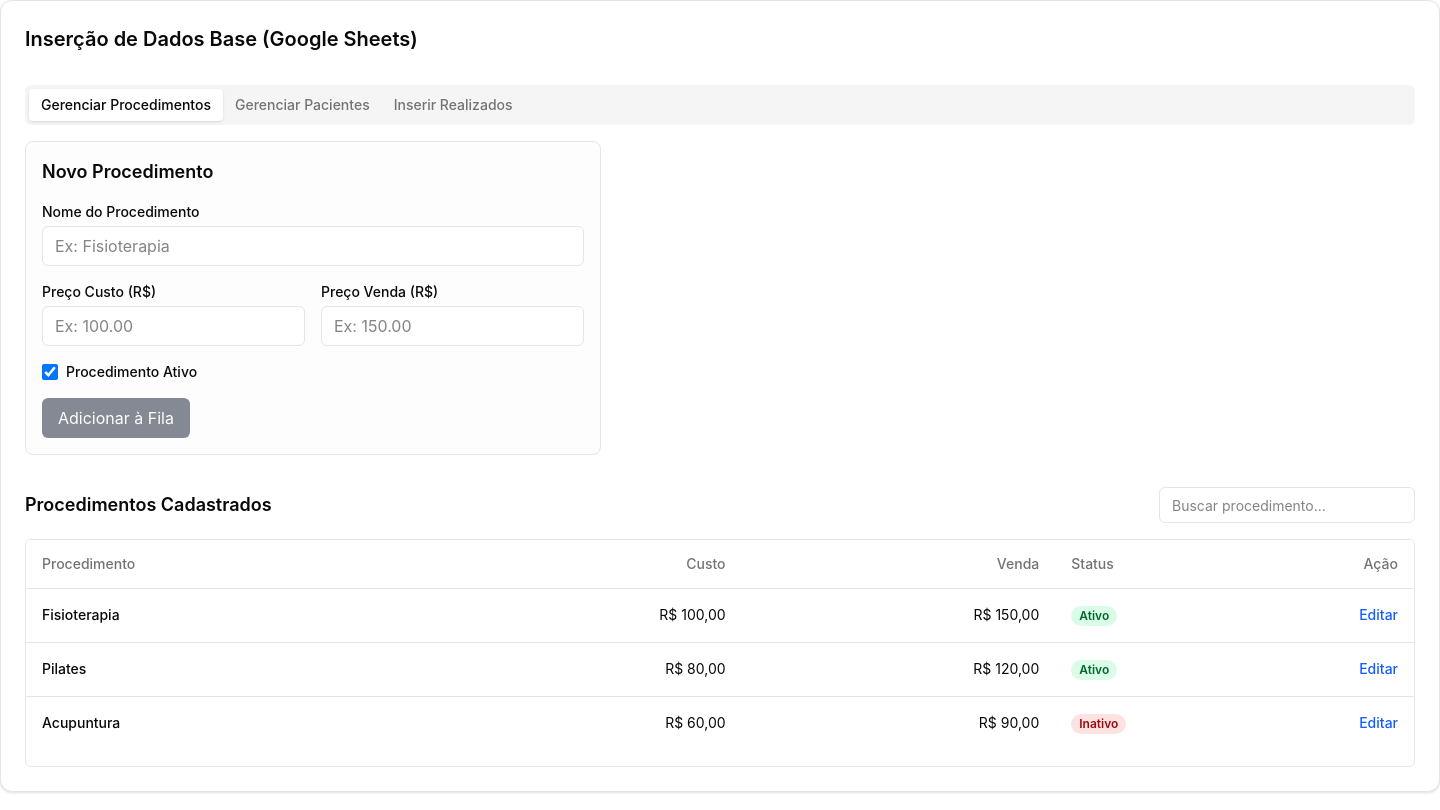
Test case: FormProcedimento - criacao de novo procedimento › mostra erro quando a API retorna 500
Type "Teste Erro" into the field with placeholder "Ex: Fisioterapia" at (313, 246), box [42,226,584,266]
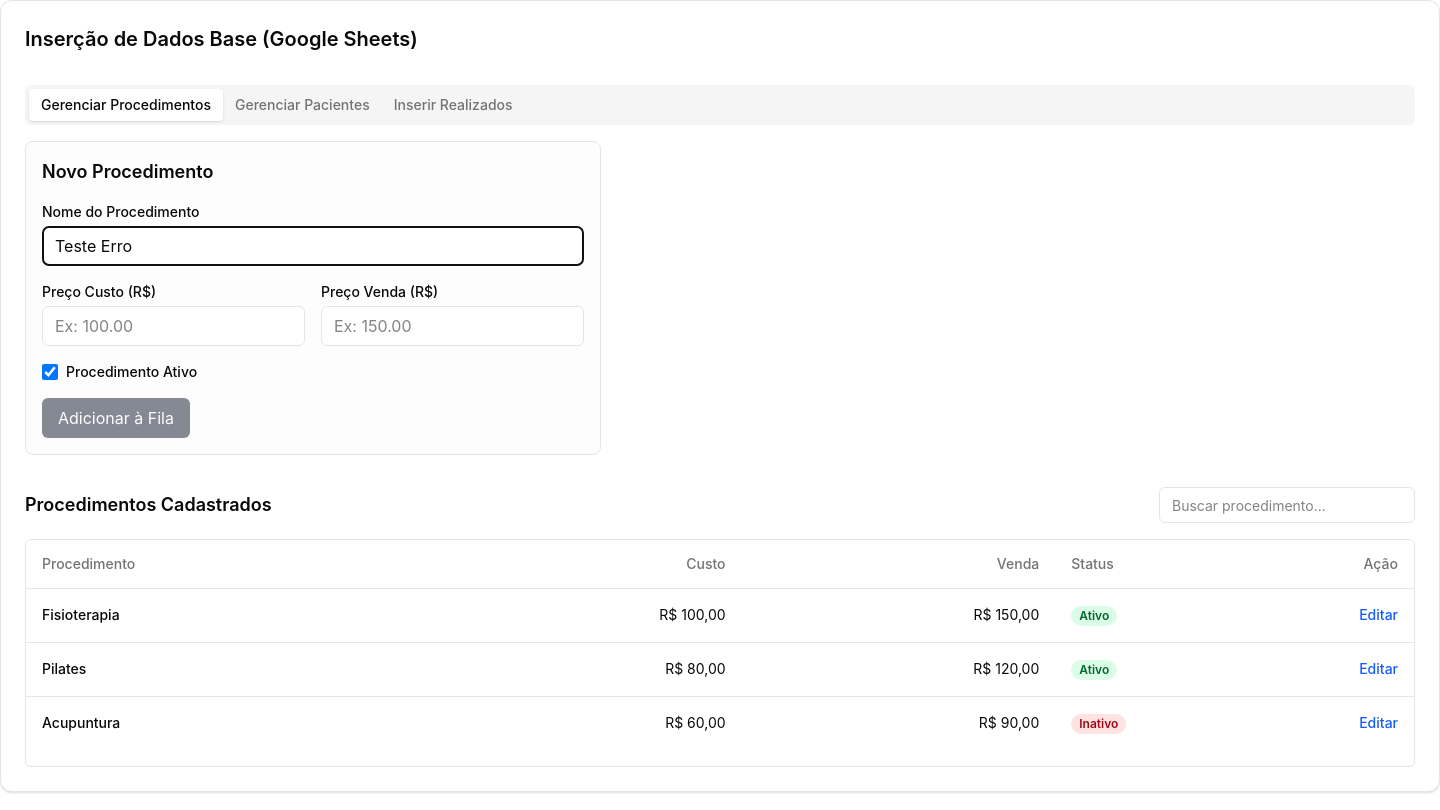
Type "10" into the number field with placeholder "Ex: 100.00" at (174, 326), box [42,306,305,346]
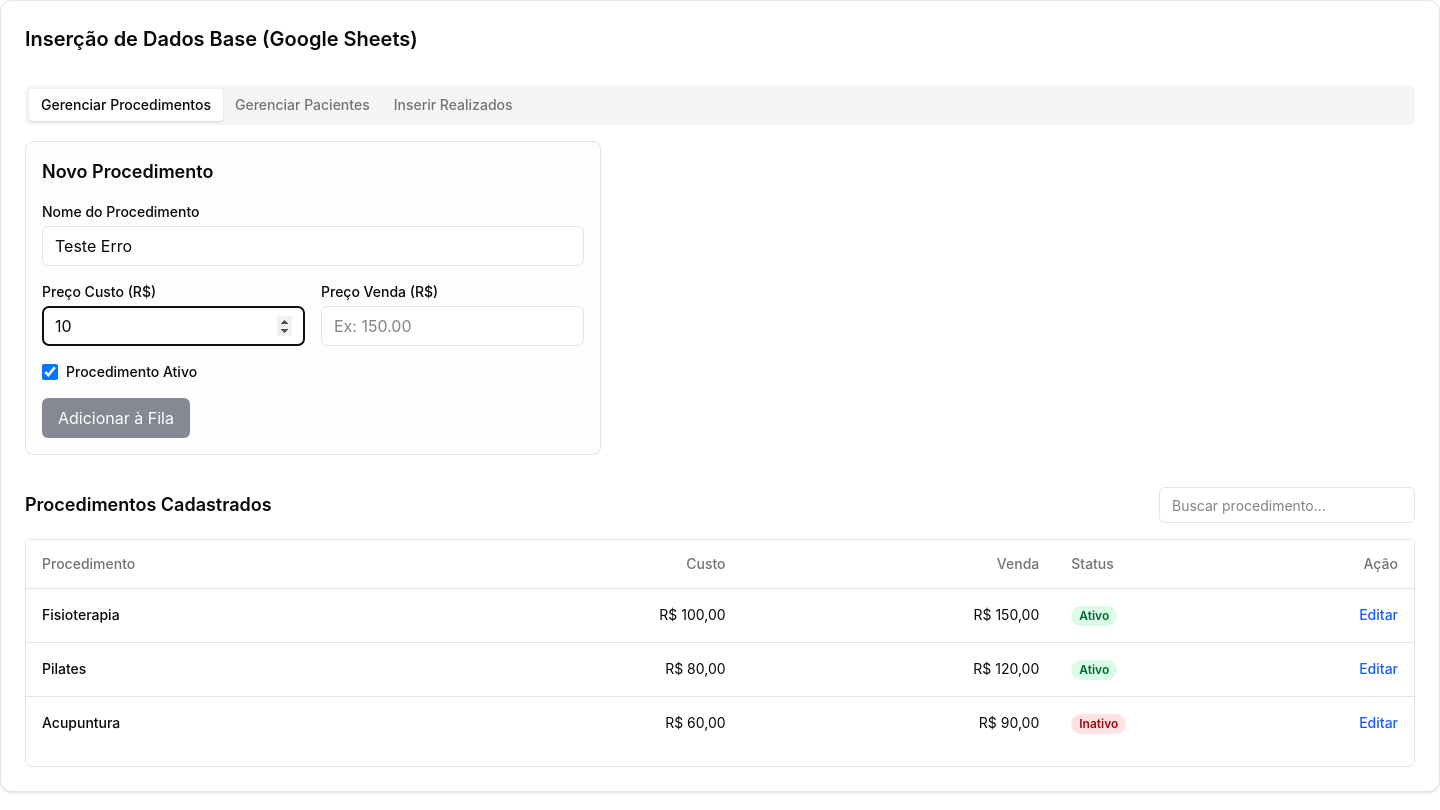
Type "20" into the number field with placeholder "Ex: 150.00" at (452, 326), box [321,306,584,346]
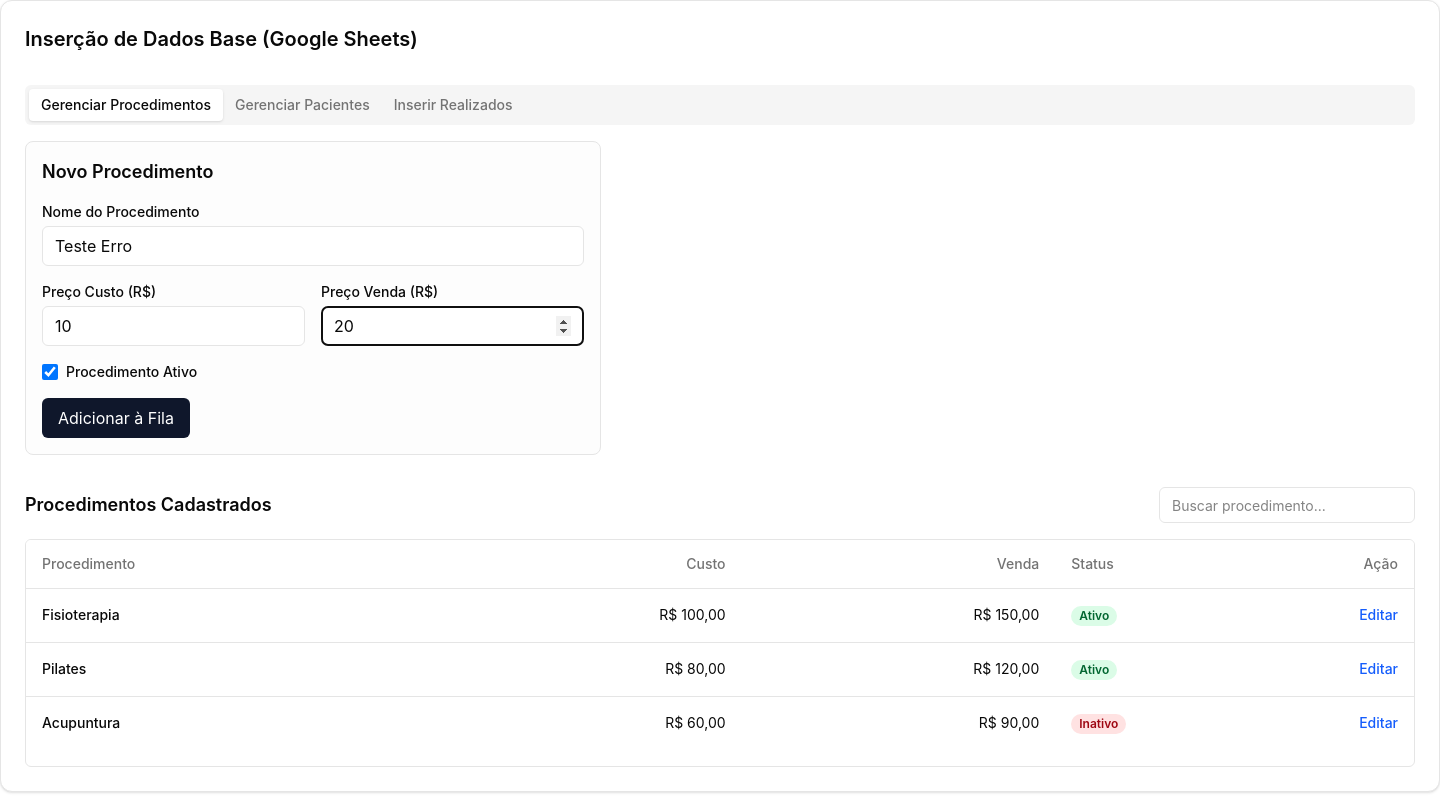
Click the button "Adicionar à Fila" at (116, 418), box [42,398,190,438]
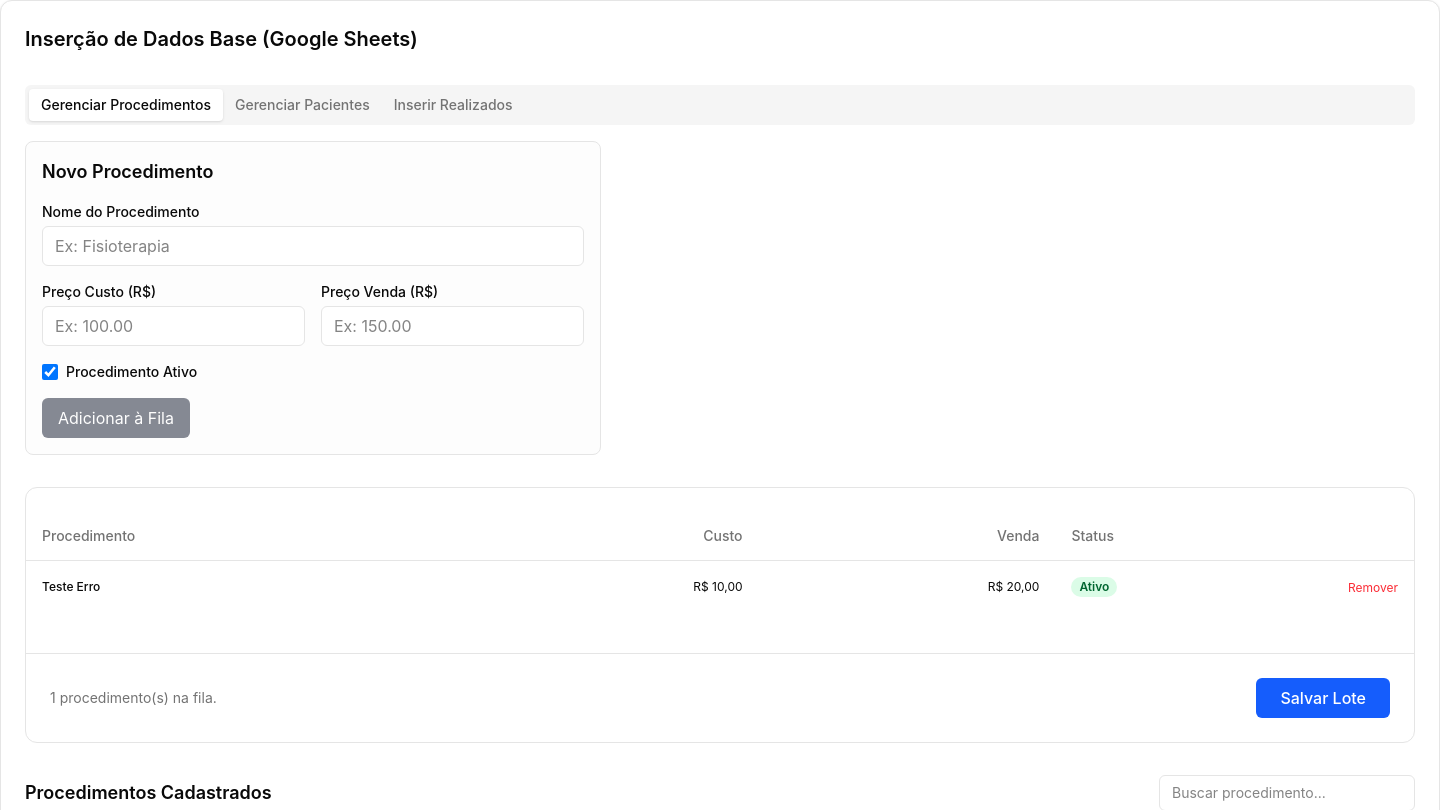
Click the button "Salvar Lote" at (1323, 698), box [1256,678,1390,718]
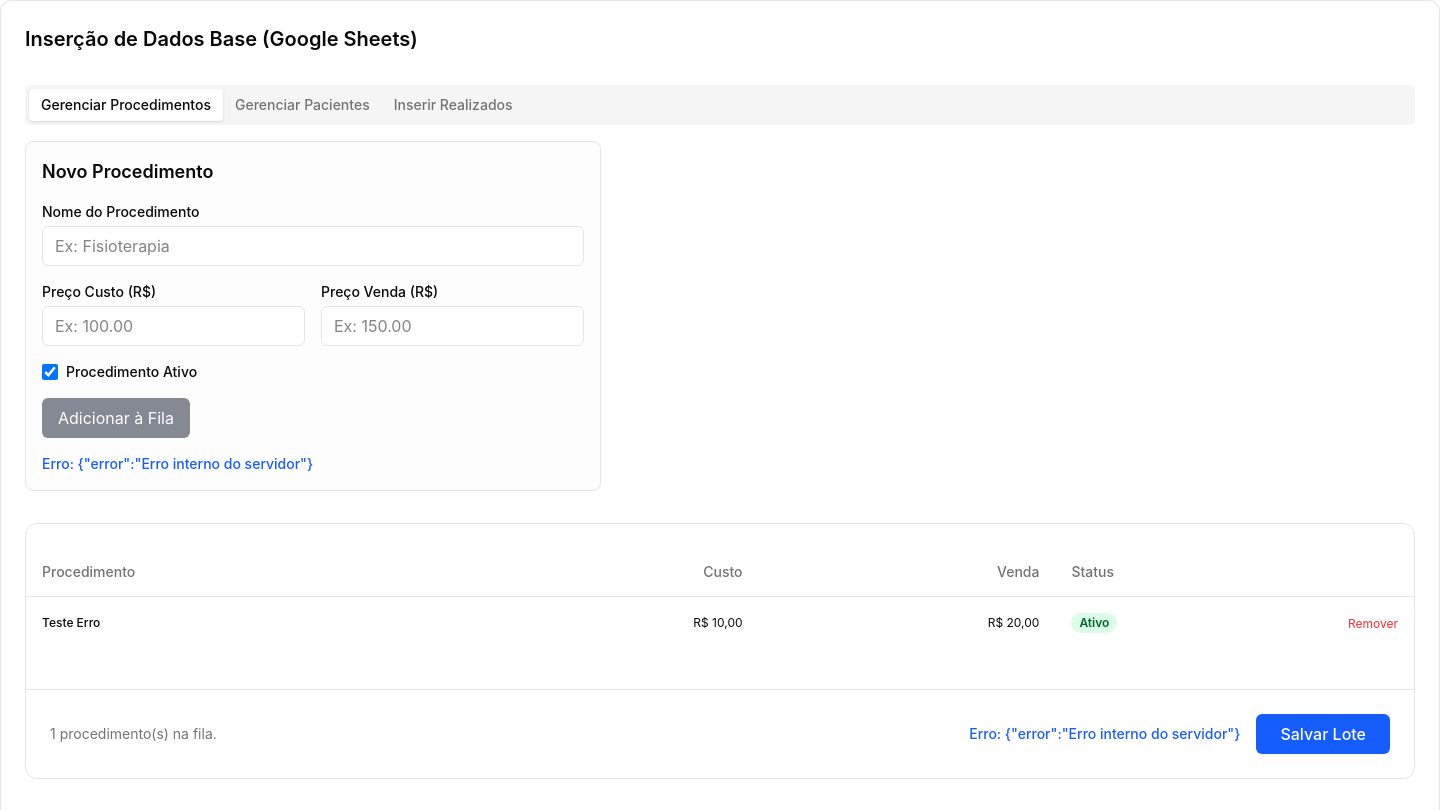
expect the text "Erro: {\"error\":\"Erro interno do servidor\"}" below "Procedimento Ativo" is shown: met, box [42,455,313,472]
